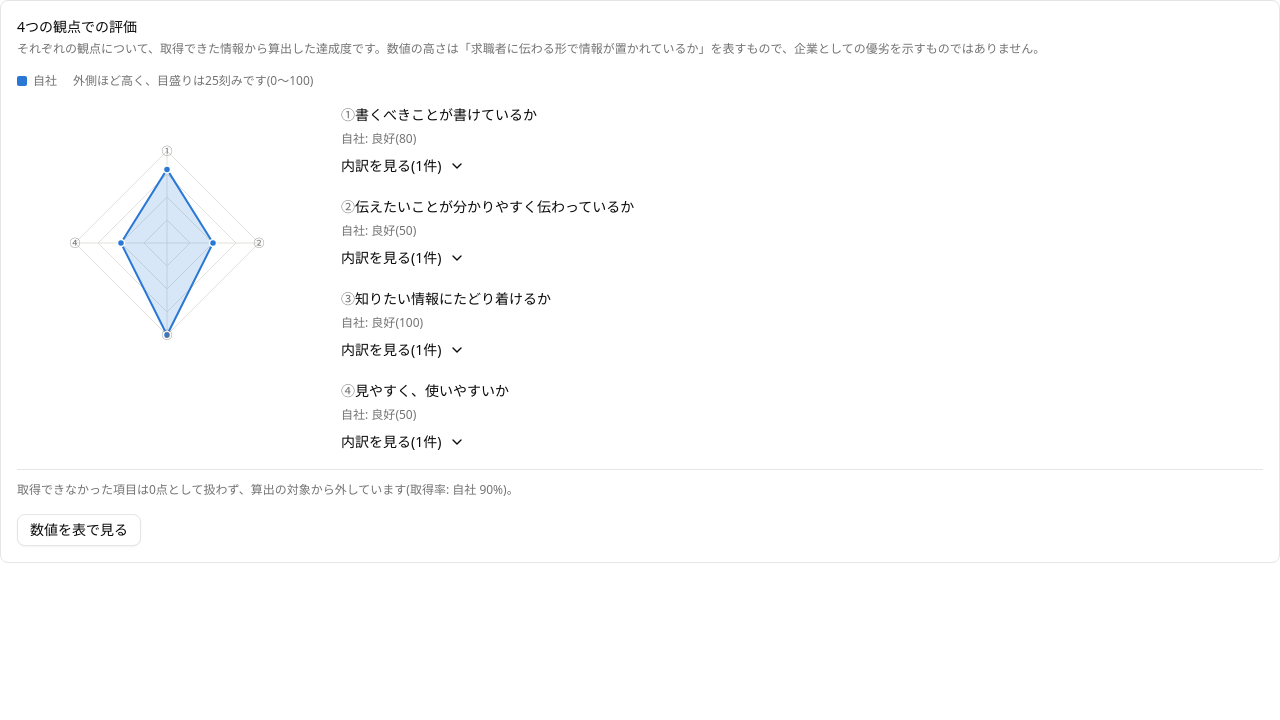
Test: LeadPerspectiveComparison › 項目の内訳は既定で閉じており、開くと項目とその判定が出る
The width and height of the screenshot is (1280, 720).
Expected: the text "completenessの項目" is not shown
Click the button "内訳を見る(1件)" below "80" at (403, 166), box x1=341 y1=156 x2=465 y2=176
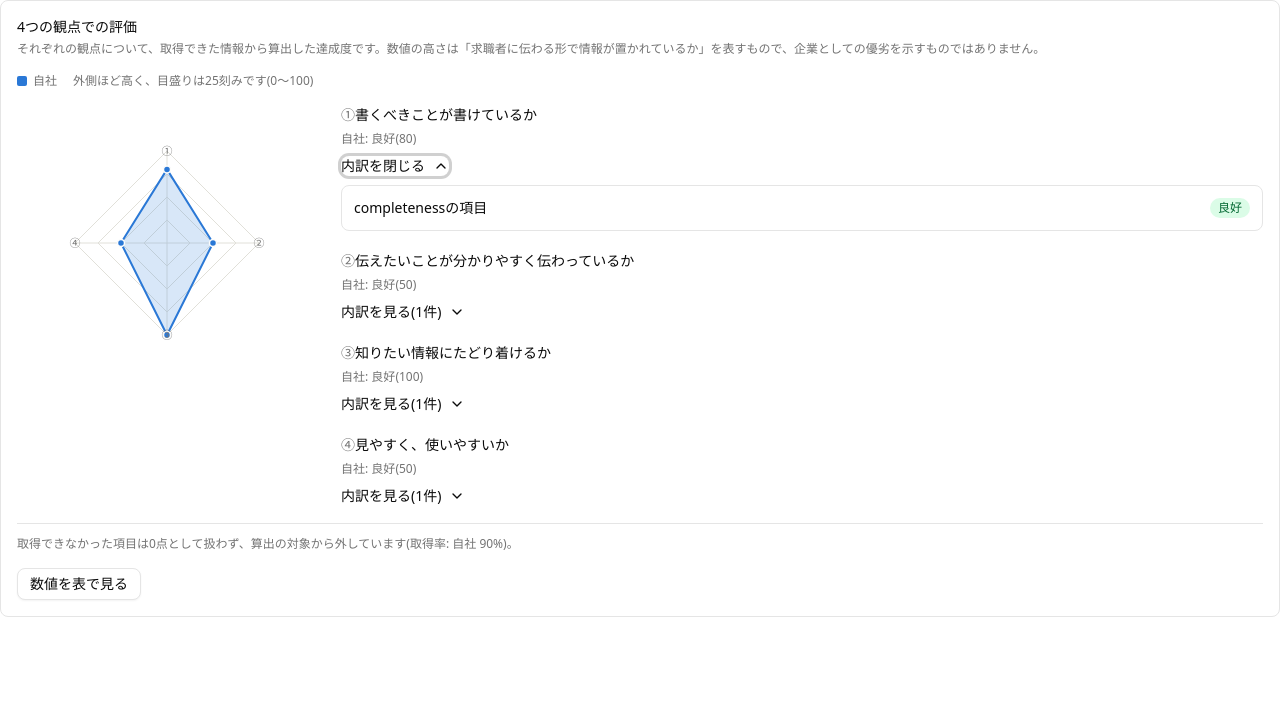
Now the text "completenessの項目" is shown, box x1=354 y1=198 x2=487 y2=218
